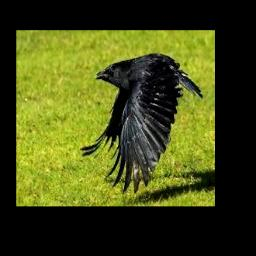Crow: (80, 53, 203, 194)
